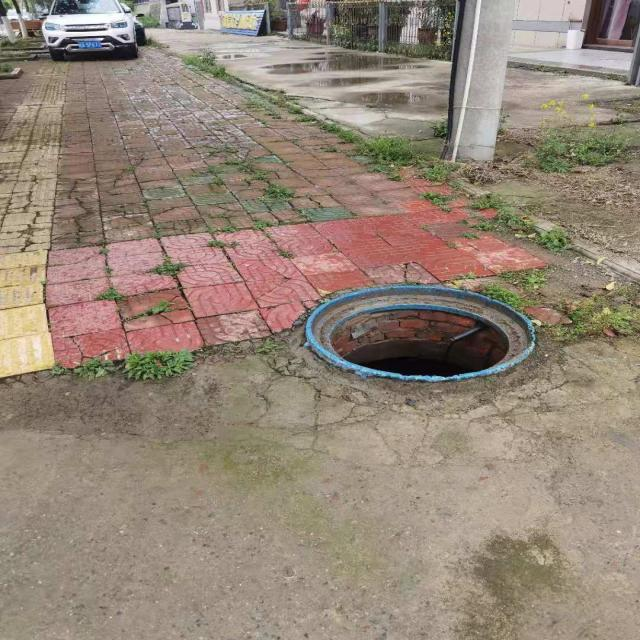Faulty: (307, 285, 537, 379)
